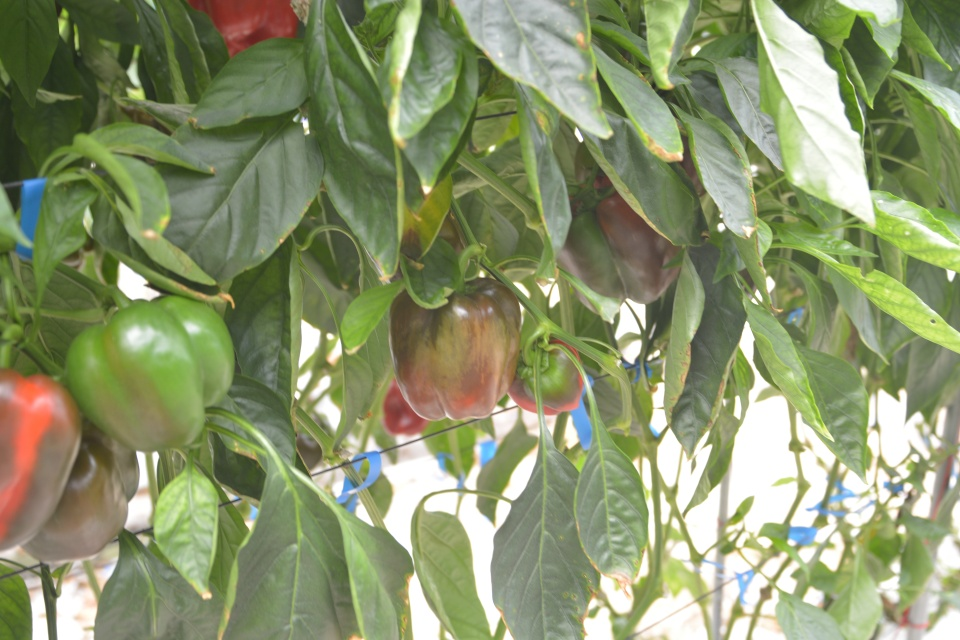fruit: (63, 292, 237, 452), (386, 272, 522, 423), (554, 165, 684, 305), (19, 416, 141, 564), (0, 365, 84, 552), (181, 0, 298, 59), (506, 333, 582, 414)
pedicle: (516, 348, 549, 380), (575, 188, 598, 212)
